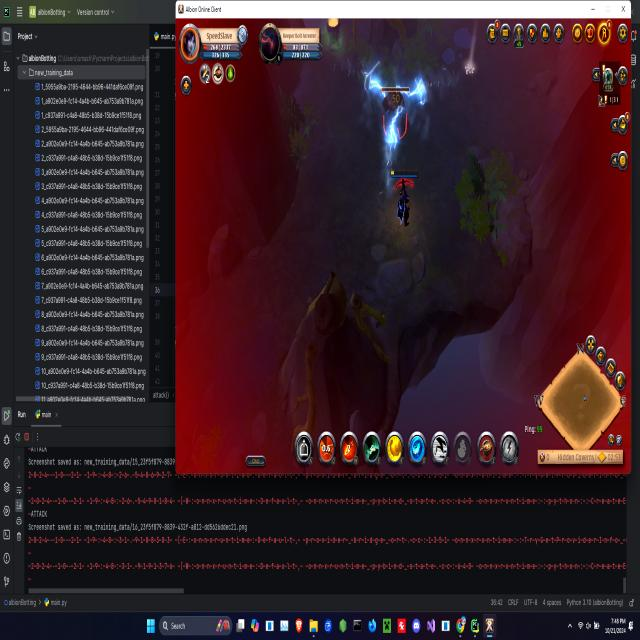fiber: (323, 14, 347, 52)
ore: (381, 81, 411, 142)
red: (387, 168, 424, 229)
silver: (356, 61, 391, 106), (392, 76, 430, 112), (385, 108, 405, 153)
stone: (461, 61, 481, 77)
